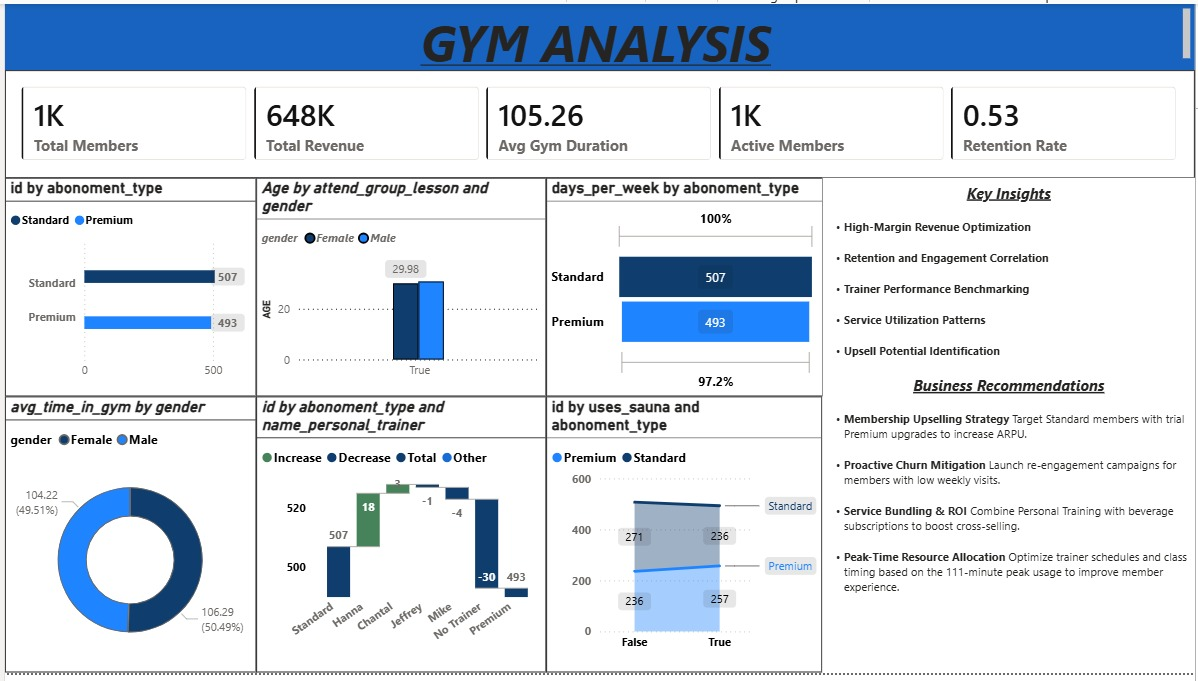

This screenshot's page, from the dashboard's own definition file:
{"tool":"powerbi","page":{"name":"Page 2","canvas":[1280,720],"ordinal":1},"visuals":[{"type":"textbox","box":[0,0,1280.3,71.4],"z":0},{"type":"clusteredColumnChart","title":" Age by attend_group_lesson and gender","fields":{"Y":["Avg(gym_cleaned.Age)"],"Category":["gym_cleaned.attend_group_lesson"],"Series":["gym_cleaned.gender"]},"box":[270.3,186.9,312,235.3],"z":1000},{"type":"clusteredBarChart","title":" id by abonoment_type","fields":{"Category":["gym_cleaned.abonoment_type"],"Y":["CountNonNull(gym_cleaned.id)"],"Series":["gym_cleaned.abonoment_type"]},"box":[0,186.9,270.3,235.3],"z":2000},{"type":"donutChart","title":" avg_time_in_gym by gender ","fields":{"Y":["Avg(gym_cleaned.avg_time_in_gym)"],"Category":["gym_cleaned.gender"],"Series":["gym_cleaned.gender"]},"box":[0,422.7,270.1,297.1],"z":3000},{"type":"waterfallChart","title":" id by abonoment_type and name_personal_trainer","fields":{"Y":["CountNonNull(gym_cleaned.id)"],"Breakdown":["gym_cleaned.name_personal_trainer"],"Category":["gym_cleaned.abonoment_type"]},"box":[270.1,422.7,312,297.1],"z":4000},{"type":"funnel","title":" days_per_week by abonoment_type","fields":{"Y":["CountNonNull(gym_cleaned.days_per_week)"],"Category":["gym_cleaned.abonoment_type"]},"box":[582.3,186.9,297.2,235.3],"z":5000},{"type":"stackedAreaChart","title":" id by uses_sauna and abonoment_type","fields":{"Category":["gym_cleaned.uses_sauna"],"Y":["CountNonNull(gym_cleaned.id)"],"Series":["gym_cleaned.abonoment_type"]},"box":[582.1,422.7,297.1,297.1],"z":6000},{"type":"cardVisual","fields":{"Data":["gym_cleaned.Total Members","gym_cleaned.Total Revenue","gym_cleaned.Avg Gym Duration","gym_cleaned.Active Members","gym_cleaned.Retention Rate"]},"box":[0,71.3,1280.3,115.7],"z":6001},{"type":"textbox","box":[879.5,186.9,400.8,532.6],"z":6002}]}

Visuals, with their boxes in screenshot pixels (x1, y1, x2, y2), scaled from the page's 1280x720 canvas onto the 1198x681 screenshot:
textbox: Rect(0, 0, 1197, 68)
" Age by attend_group_lesson and gender" clusteredColumnChart: Rect(253, 177, 545, 399)
" id by abonoment_type" clusteredBarChart: Rect(0, 177, 253, 399)
" avg_time_in_gym by gender " donutChart: Rect(0, 400, 253, 680)
" id by abonoment_type and name_personal_trainer" waterfallChart: Rect(253, 400, 545, 680)
" days_per_week by abonoment_type" funnel: Rect(545, 177, 823, 399)
" id by uses_sauna and abonoment_type" stackedAreaChart: Rect(545, 400, 823, 680)
cardVisual - gym_cleaned.Total Members x gym_cleaned.Total Revenue: Rect(0, 67, 1197, 177)
textbox: Rect(823, 177, 1197, 680)
